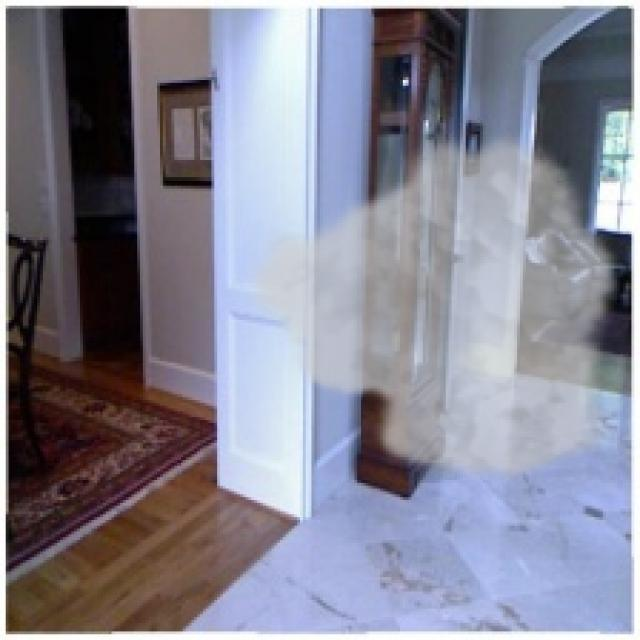Smoke: (243, 126, 623, 486)
